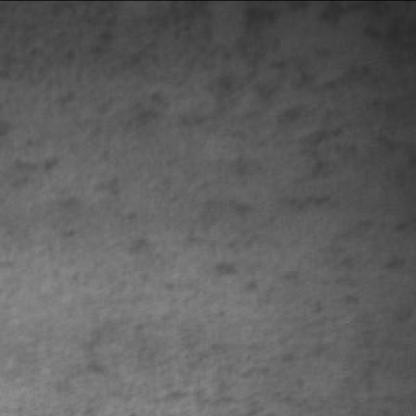pitted_surface: (25, 19, 381, 270), (71, 204, 395, 399)
